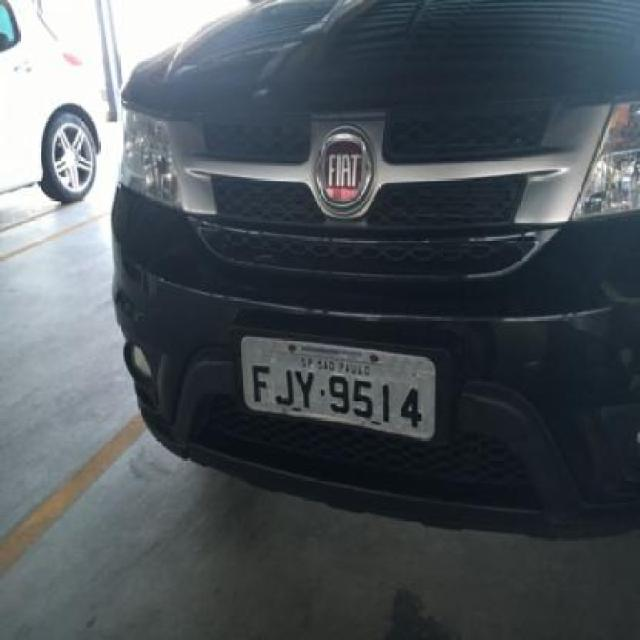old_plate: (236, 330, 439, 446)
